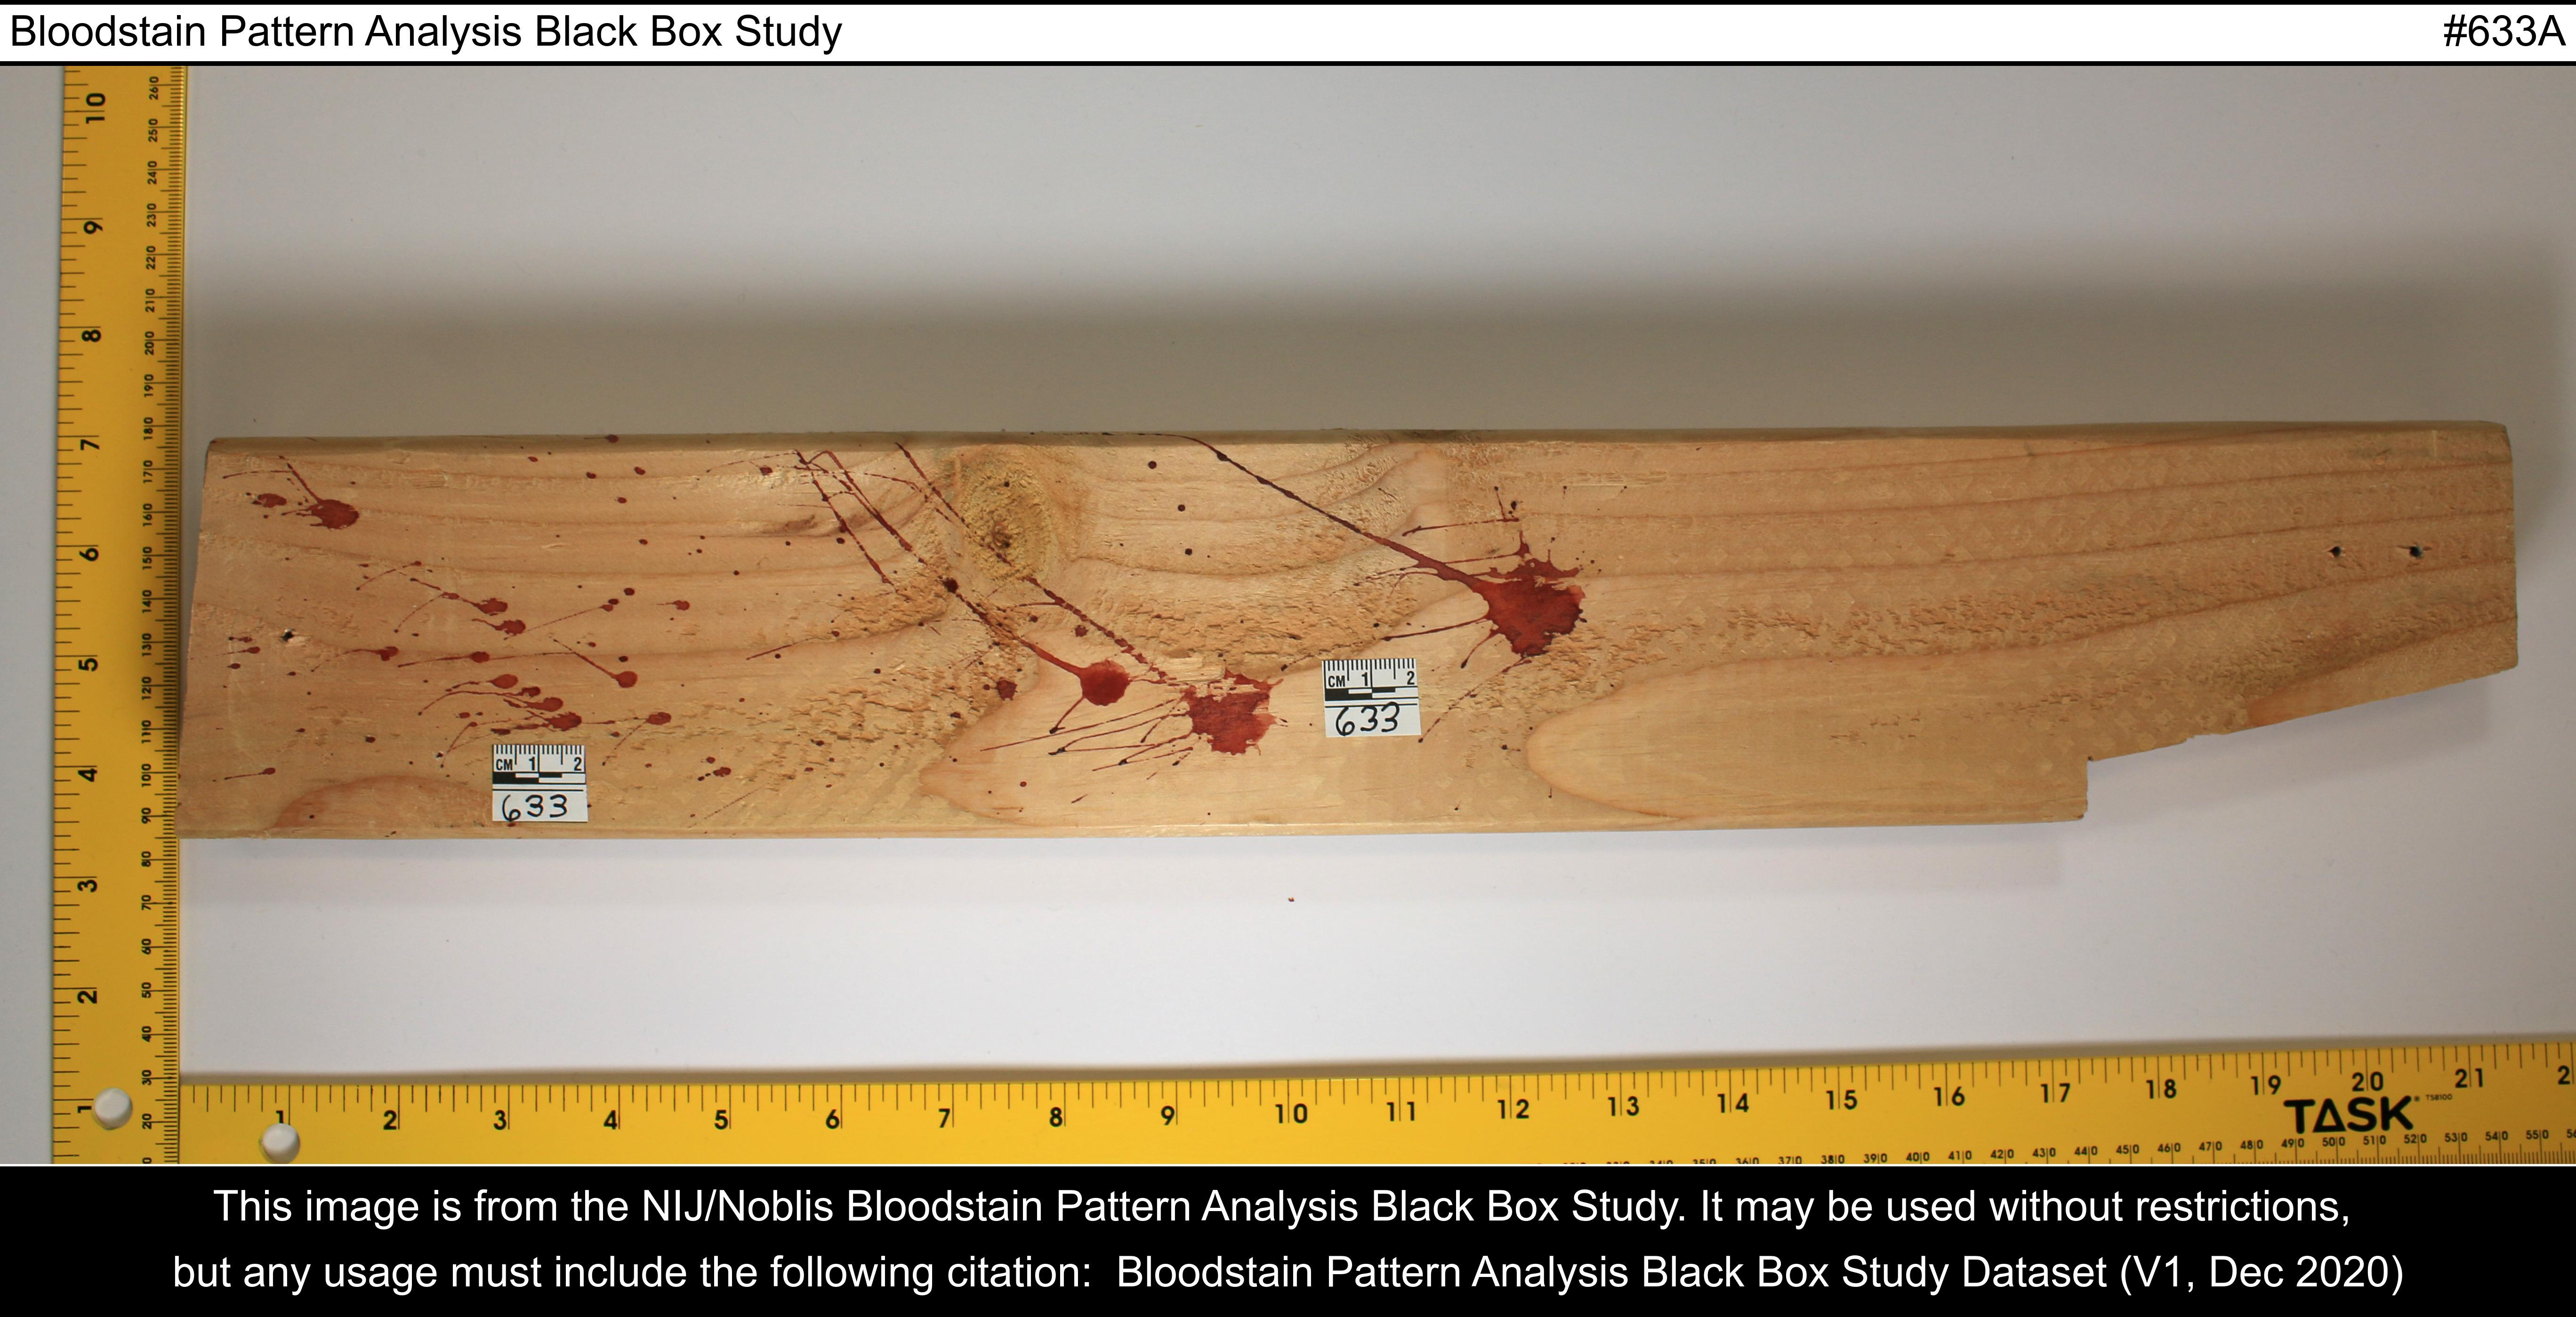Impact: (212, 438, 2509, 828)
